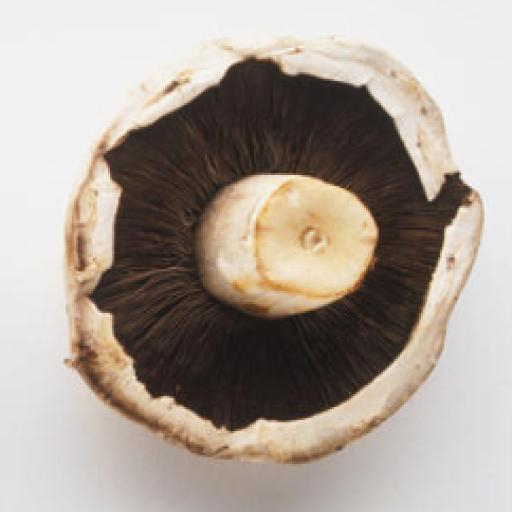Button Mushroom: (61, 31, 485, 472)
